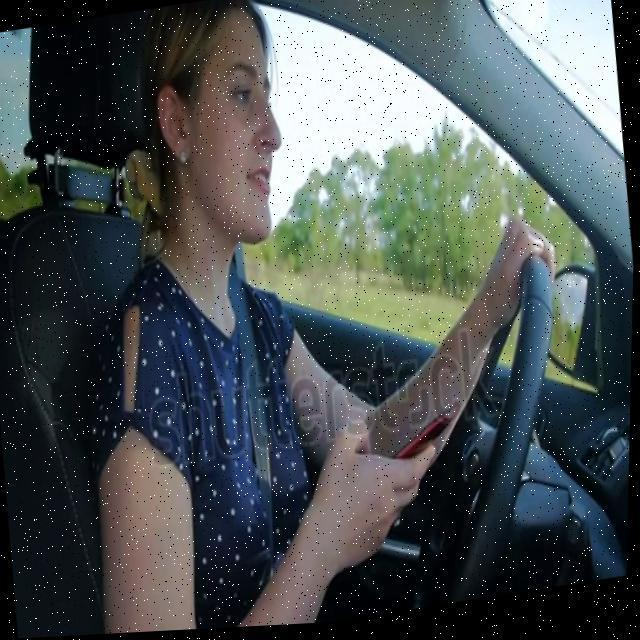PhoneCall: (374, 403, 472, 475)
